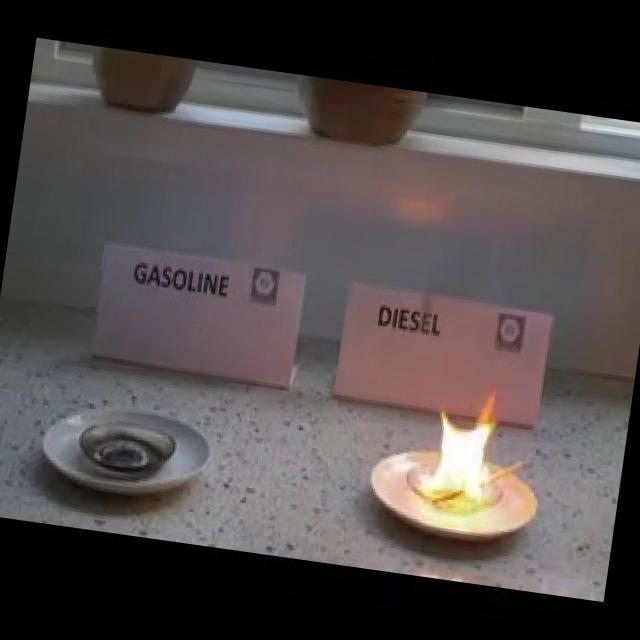Smoke: (416, 378, 514, 514)
